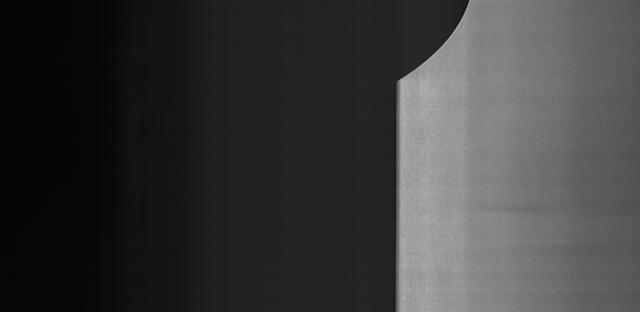crescent_gap: (373, 0, 490, 86)
